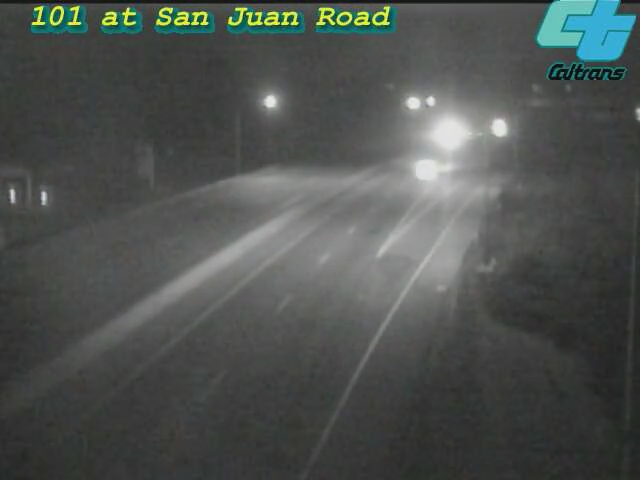vehicle: (392, 126, 472, 206), (427, 107, 477, 157), (477, 102, 527, 152)
